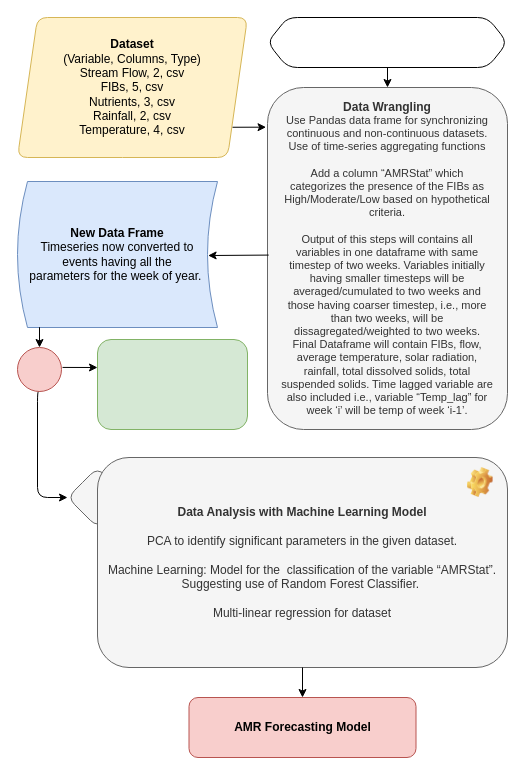
The diagram is 525 pixels wide and 775 high, and some of its shapes have lost their labels. The shapes that lost their labels are listed below. From the top down, each one's centre as x and y in pixels, then its label:
(x=387, y=42): Assign Unique ID to Sample
(x=172, y=384): Statistical Analysis Descriptive Statistics and Data Visualization
